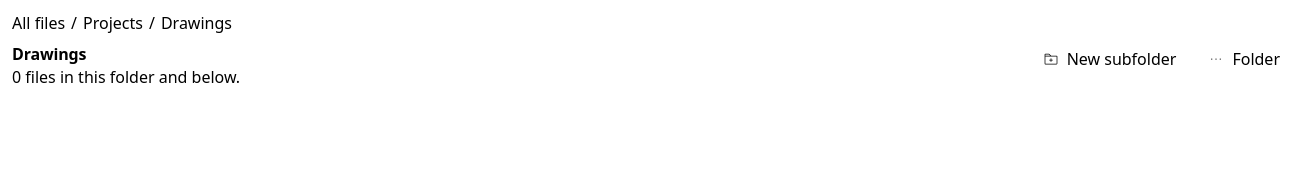
Test: documents scoped account › folder menu keeps rename and move on inner folders when scoped
Click the button with aria-label "More for folder Drawings" at {"x": 1244, "y": 59}, box [1196, 43, 1292, 75]
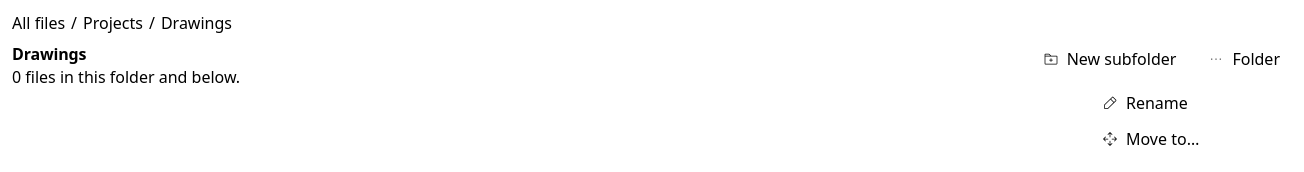
expect the menu item "Move to…" is shown: met, box [1102, 128, 1199, 150]
